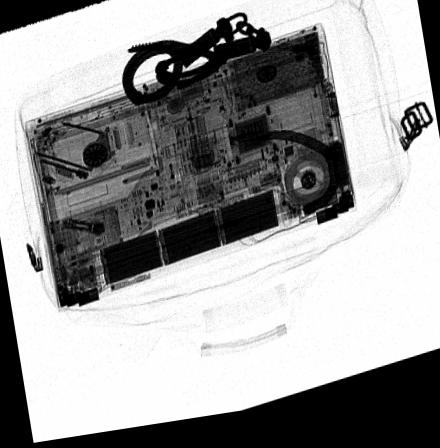HandCuffs: (119, 15, 274, 111)
